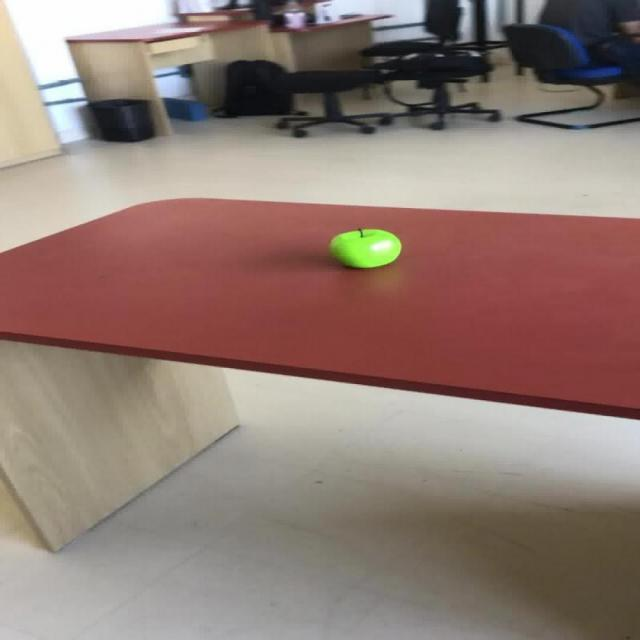Apple: (328, 227, 401, 268)
